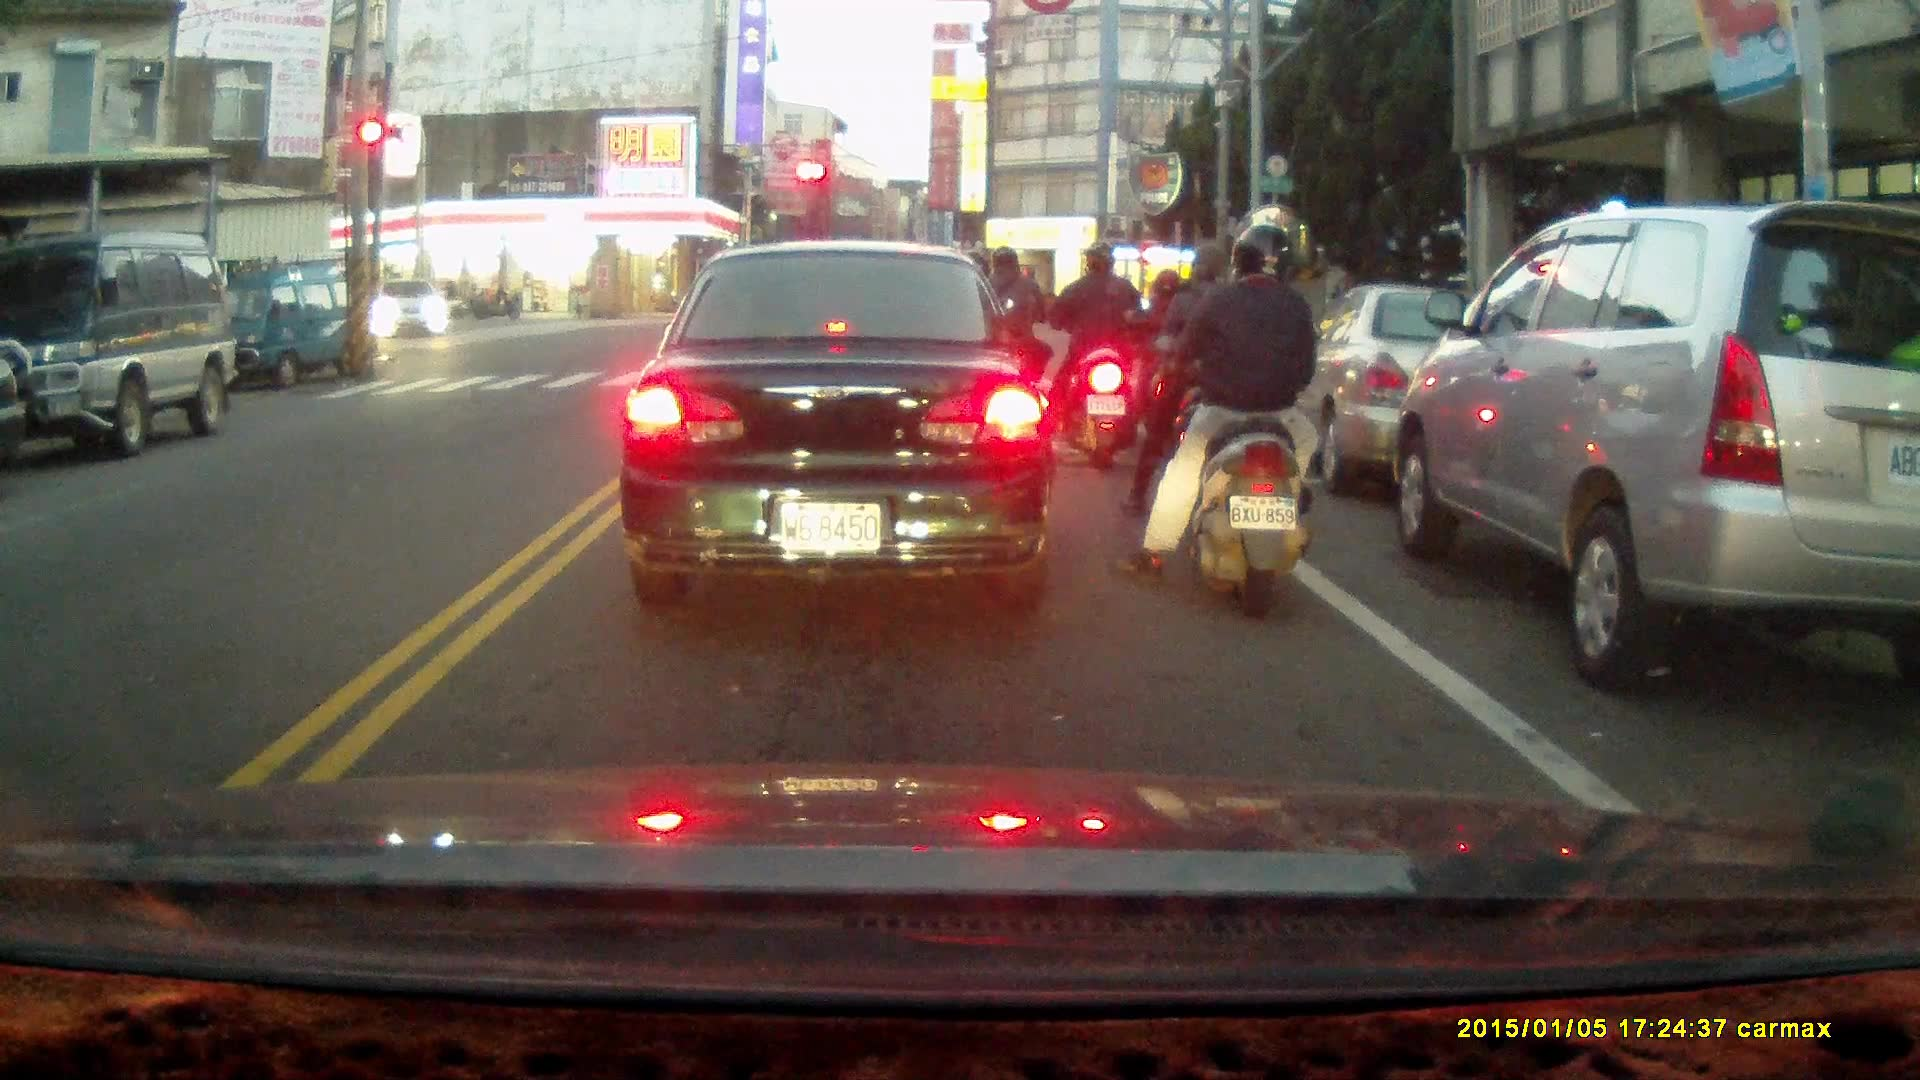rider: (1116, 225, 1316, 617), (1121, 240, 1259, 535), (1048, 243, 1142, 468), (967, 244, 1052, 438), (1132, 267, 1203, 449), (428, 277, 472, 319)
vehicle: (1391, 195, 1920, 685), (617, 243, 1061, 606), (1285, 285, 1583, 498), (1, 234, 239, 458), (194, 255, 381, 393), (372, 277, 451, 343)
